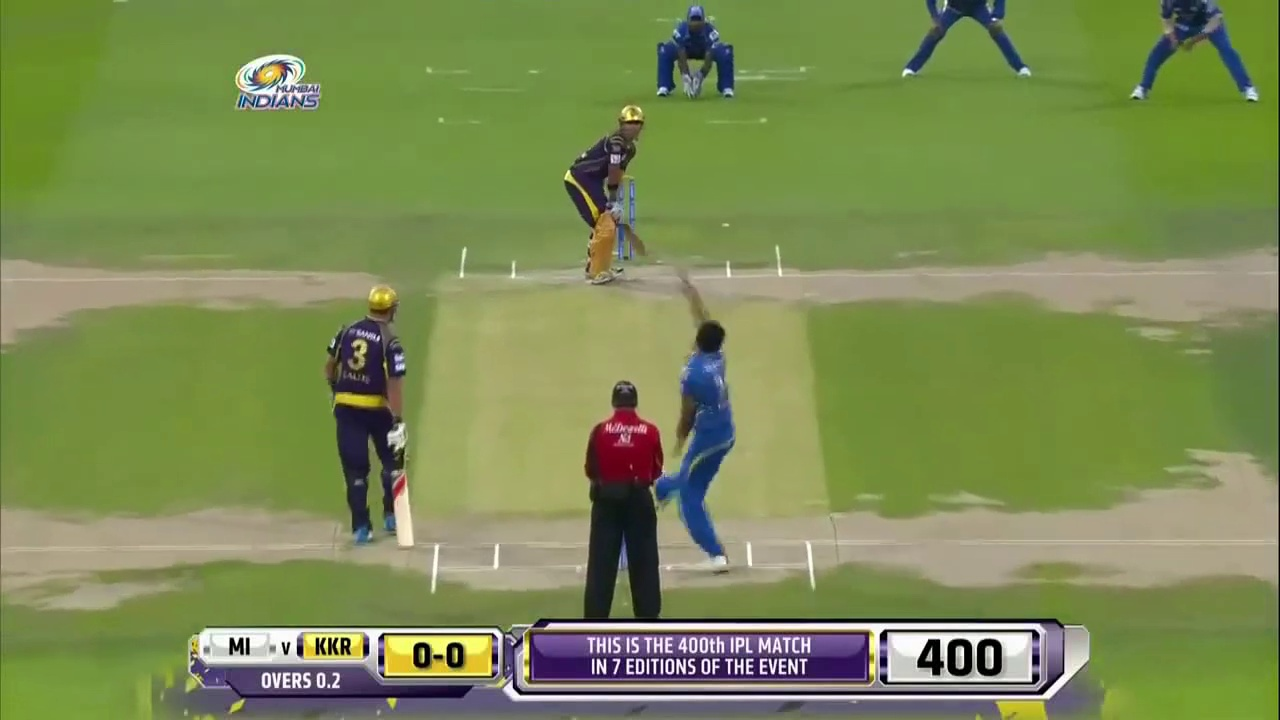bat: (389, 466, 416, 549)
